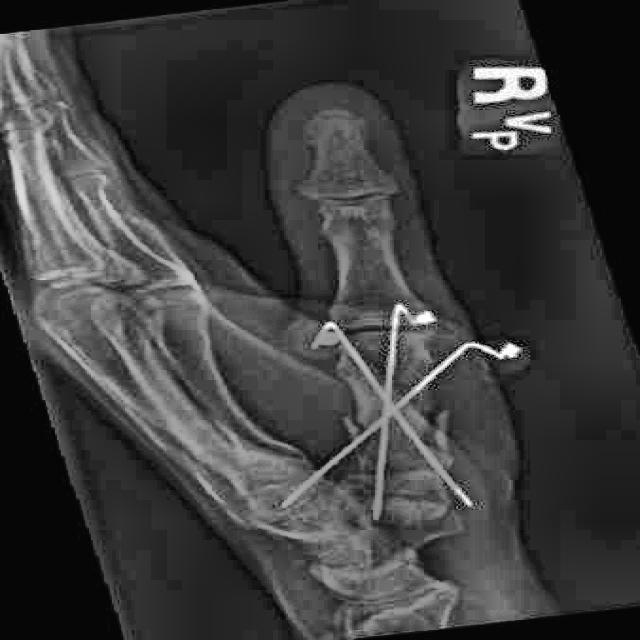fingers positive: (327, 380, 483, 504)
